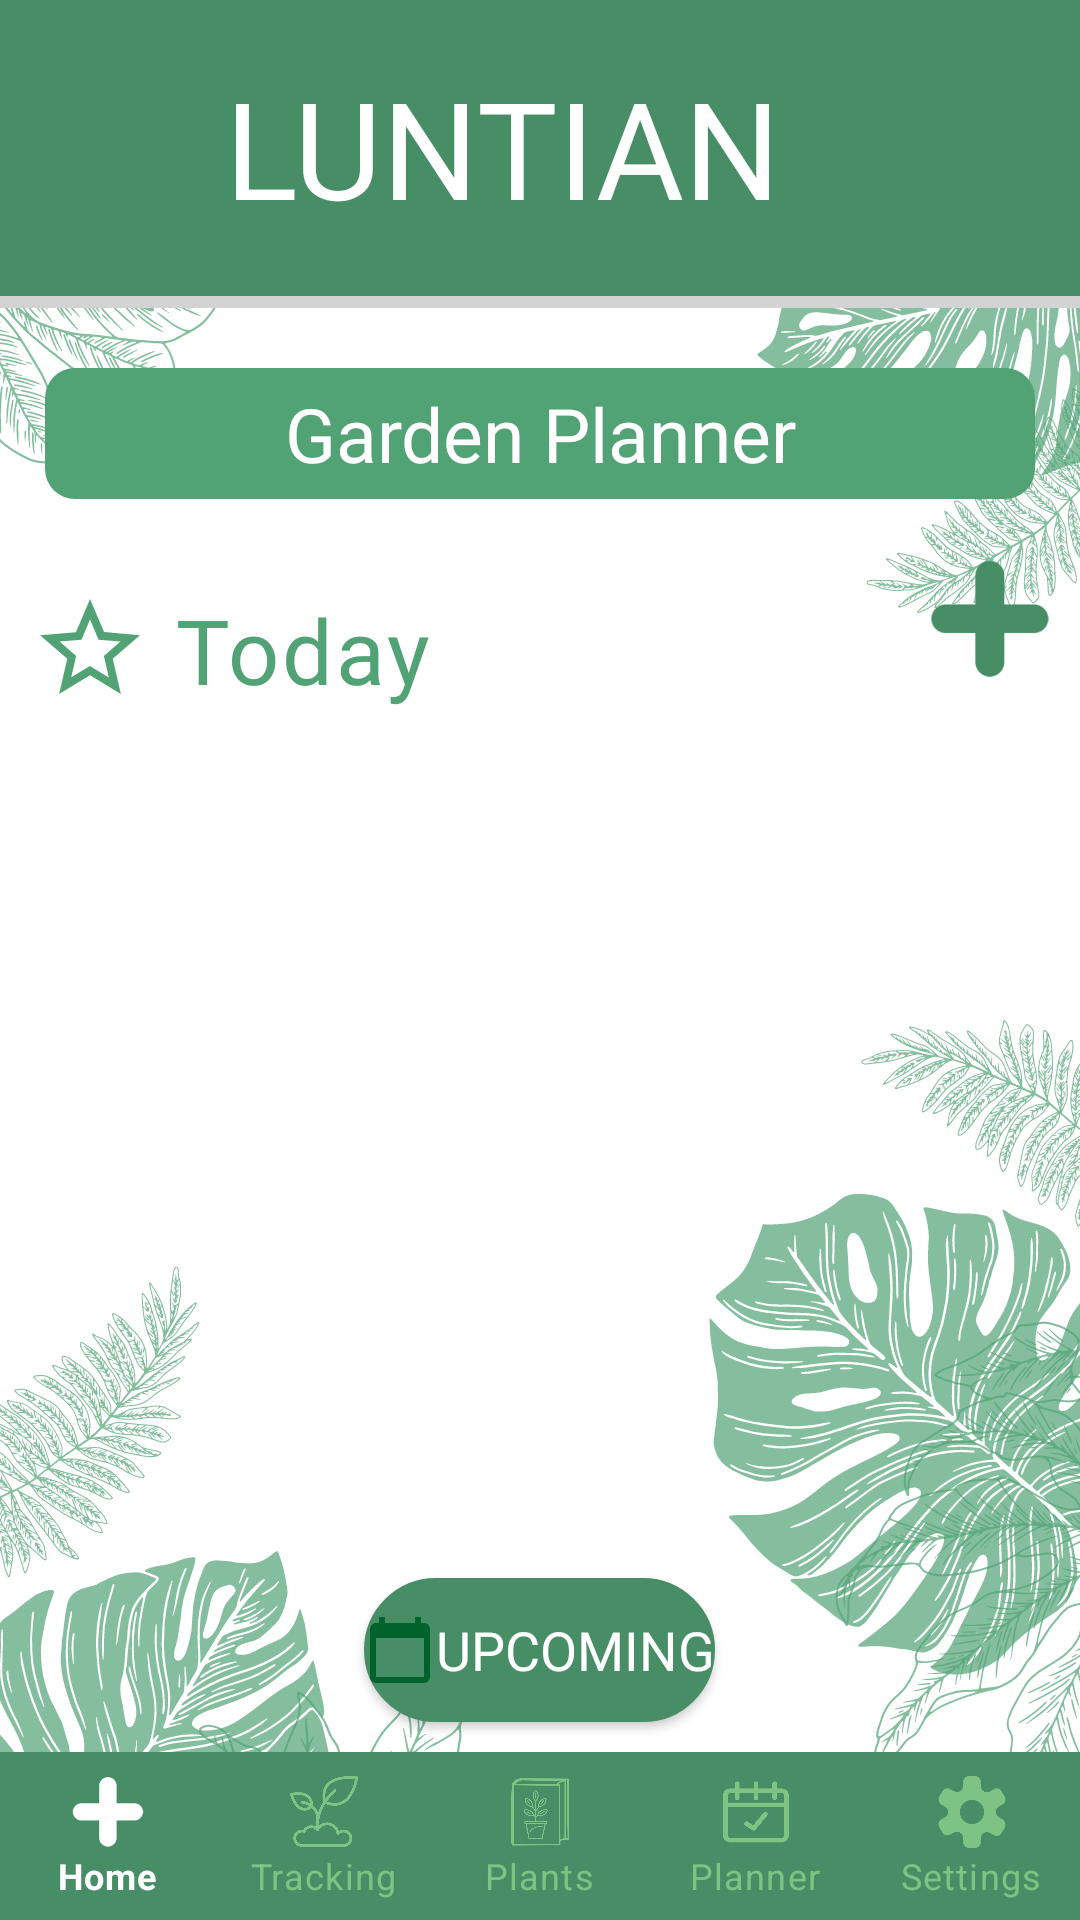

Locate icon controls on the screen. Image size 1080px×1920px, boxes as (x1, y1, x2, y2).
plusicon: (930, 559, 1050, 677)
